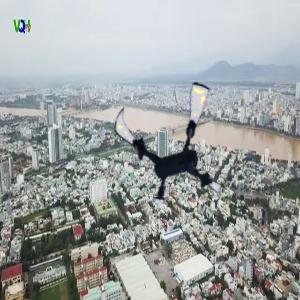drone: (112, 80, 239, 207)
